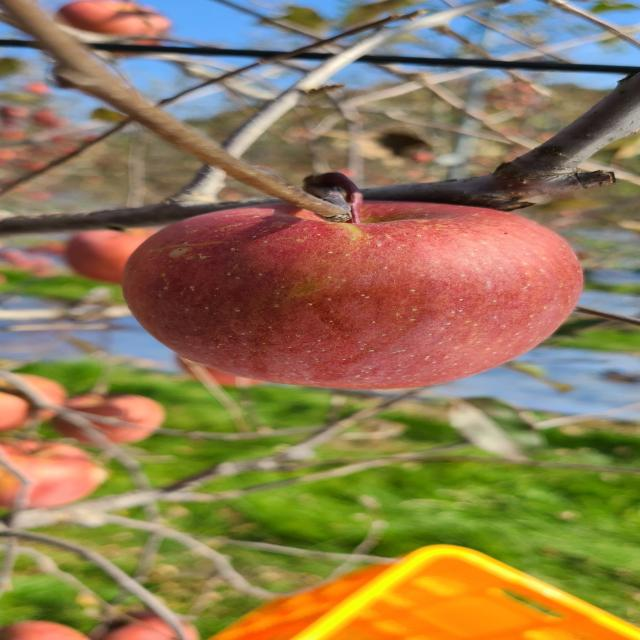fresh: (104, 194, 617, 396)
